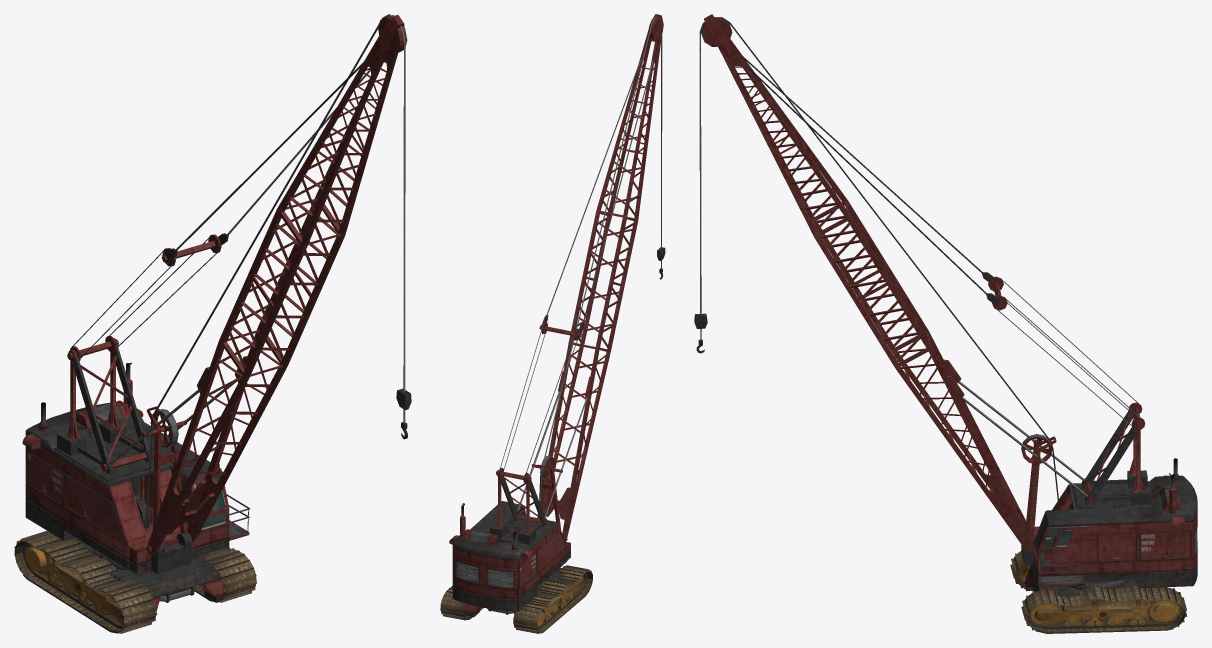
The model's file is WheelCrane.fbx.
3 views of the same model, side by side, from view 1: azimuth 30°, elevation 25°; view 2: azimuth 150°, elevation 25°; view 3: azimuth 270°, elevation 25° (orthographic). The views are drawn at different scales.
Parts seen in each view (by area): view 1: Crane_Tower_Small, chains, wheels; view 2: Crane_Tower_Small, chains, wheels; view 3: Crane_Tower_Small, chains, wheels.
Part boxes in pixels (left/top/right/bottom): Crane_Tower_Small: left=22, top=14, right=411, bottom=619; chains: left=14, top=531, right=256, bottom=633; wheels: left=25, top=544, right=223, bottom=624; Crane_Tower_Small: left=449, top=14, right=665, bottom=617; chains: left=440, top=565, right=592, bottom=633; wheels: left=537, top=575, right=584, bottom=626; Crane_Tower_Small: left=694, top=14, right=1197, bottom=620; chains: left=1010, top=551, right=1187, bottom=633; wheels: left=1019, top=565, right=1180, bottom=626.
Size of the model in its own units: 452 by 2071 by 1582.
5 materials, 5 textured.
